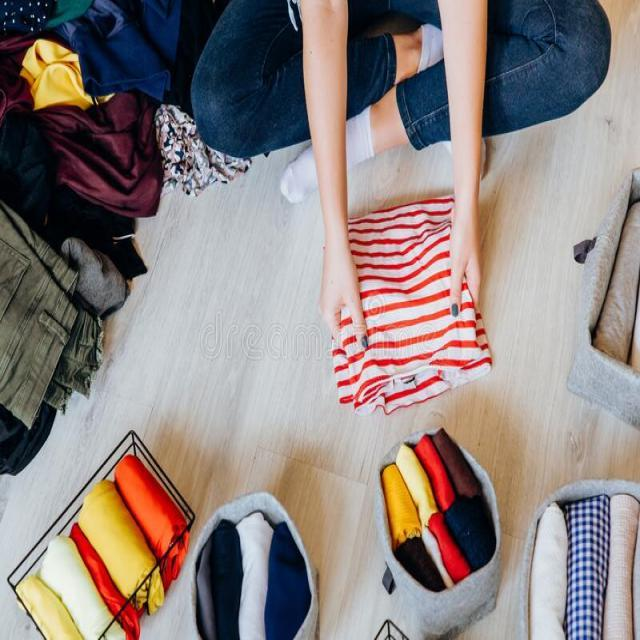clothes: (4, 0, 196, 108), (345, 230, 477, 384), (44, 84, 168, 216)
